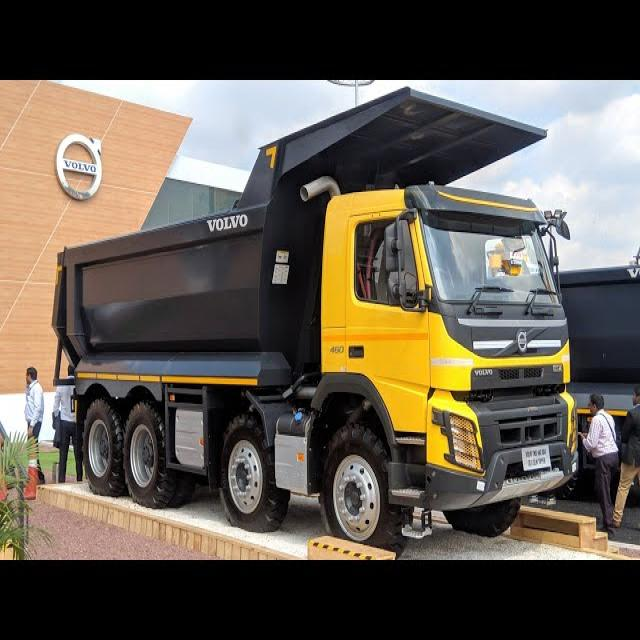dump_truck: (52, 82, 581, 526)
